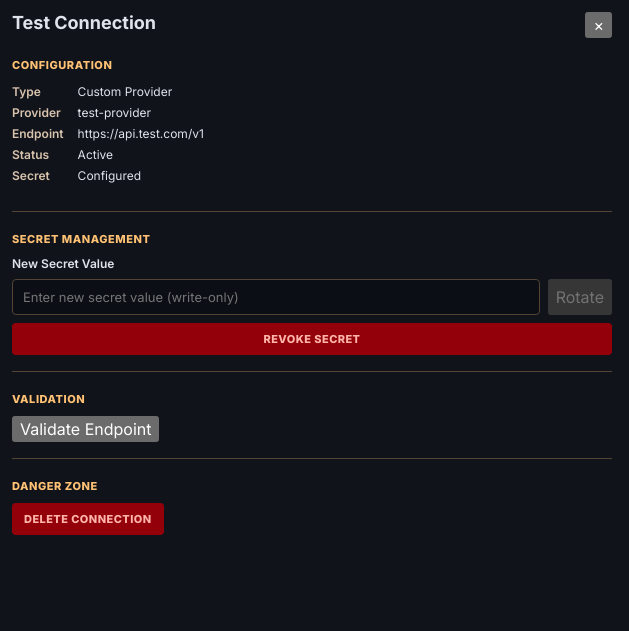
Test: ConnectionDetail › shows dependency blockers when deletion is blocked
Click the button with aria-label "Delete connection" at (88, 519), box top-left (12, 503), bottom-right (164, 535)
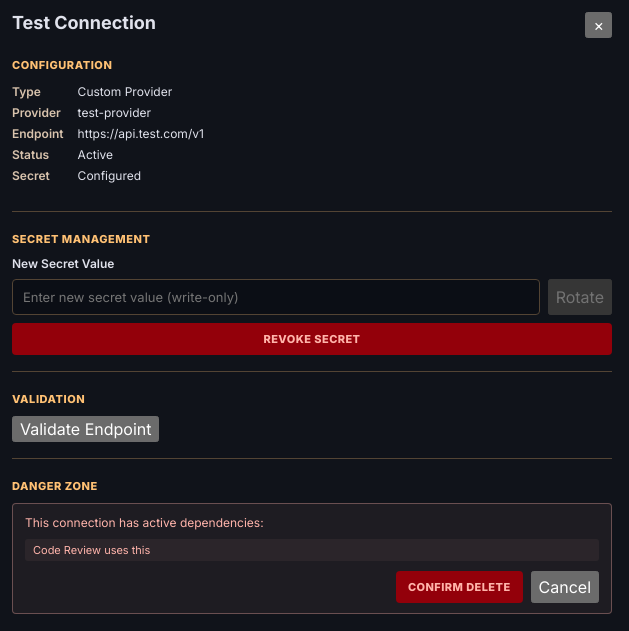
Expected: the text "active dependencies" is shown, top-left (25, 515), bottom-right (264, 530)
Expected: the text "Code Review uses this" is shown, top-left (25, 539), bottom-right (599, 561)
